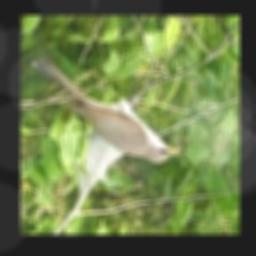Cuckoo: (37, 56, 184, 164)
